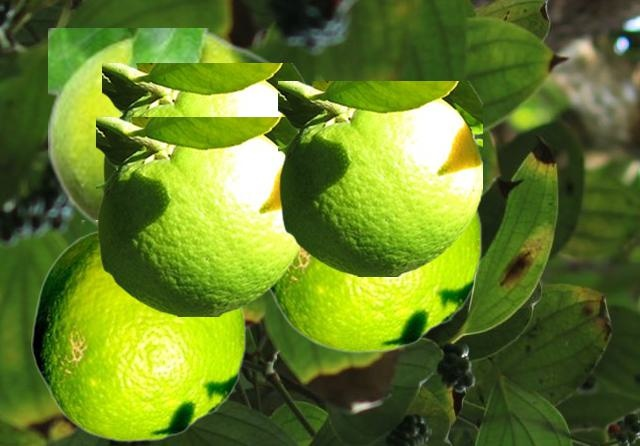dalandan: (31, 220, 245, 441), (48, 28, 275, 230), (96, 117, 301, 315), (278, 81, 481, 275), (267, 206, 481, 352), (102, 63, 305, 181)
